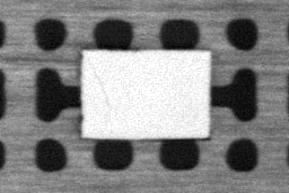DIE_CRACK: (86, 60, 111, 112)
